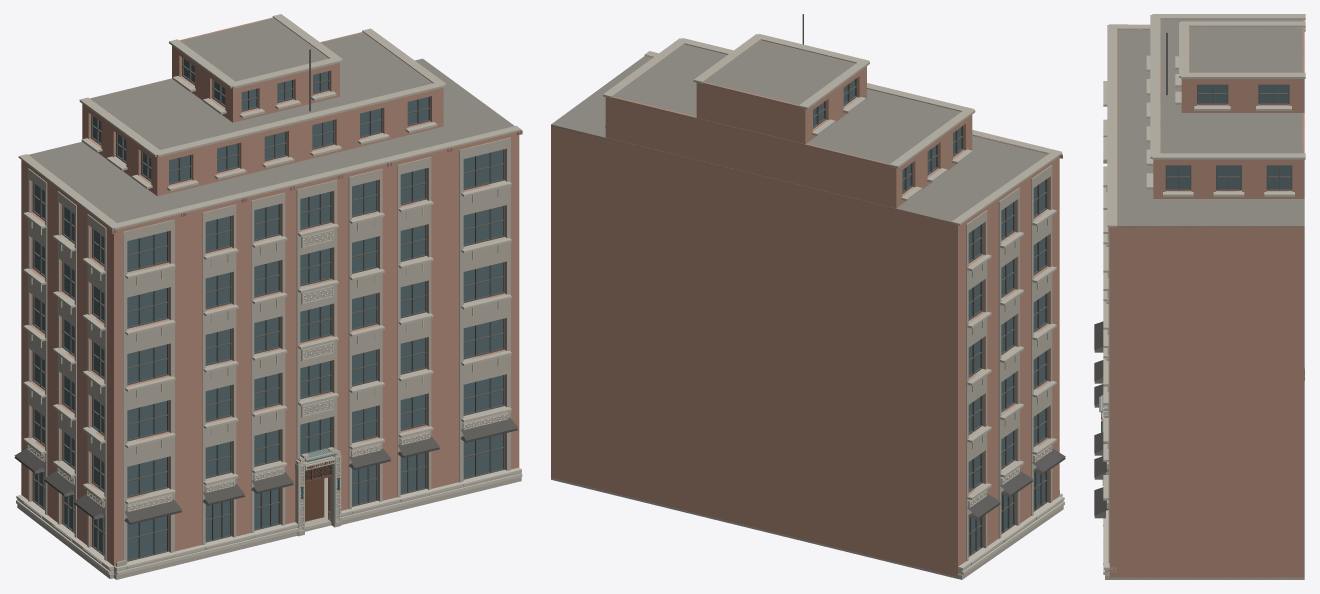
The model's file is huangpu-national-ywca-raw.glb.
The picture shows the model from 3 angles, left to right: view 1: azimuth 30°, elevation 25°; view 2: azimuth 150°, elevation 25°; view 3: azimuth 270°, elevation 25°; orthographic projection.
Parts seen in each view (by area): view 1: 中华基督教女青年会大楼圆明园路主立面; view 2: 中华基督教女青年会大楼圆明园路主立面; view 3: 中华基督教女青年会大楼圆明园路主立面.
Boxes of the visible parts, left/top/right/bottom form: 中华基督教女青年会大楼圆明园路主立面: left=14, top=14, right=522, bottom=579; 中华基督教女青年会大楼圆明园路主立面: left=551, top=14, right=1065, bottom=579; 中华基督教女青年会大楼圆明园路主立面: left=1094, top=14, right=1305, bottom=579.
Bounding box in the file's own units: 30.21 × 31.1 × 13.
